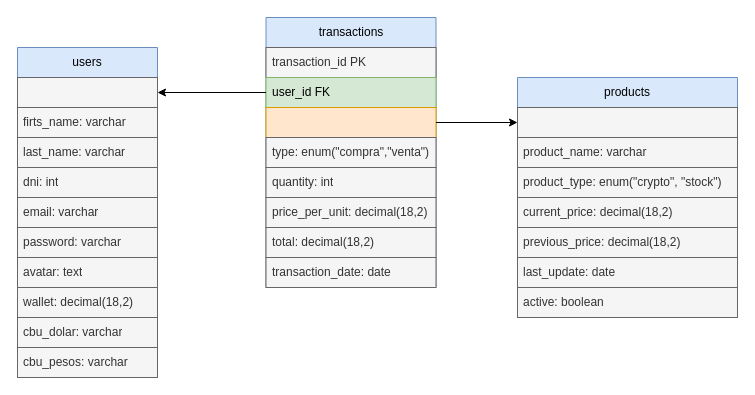
The diagram is 755 pixels wide and 395 high, and some of its shapes have lost their labels. The shapes that lost their labels are listed below. From the top down, each one's centre as x and y in pixels, then its label:
the point at 87,92: user_id PK
the point at 350,122: product_id FK
the point at 627,122: product_id PK
